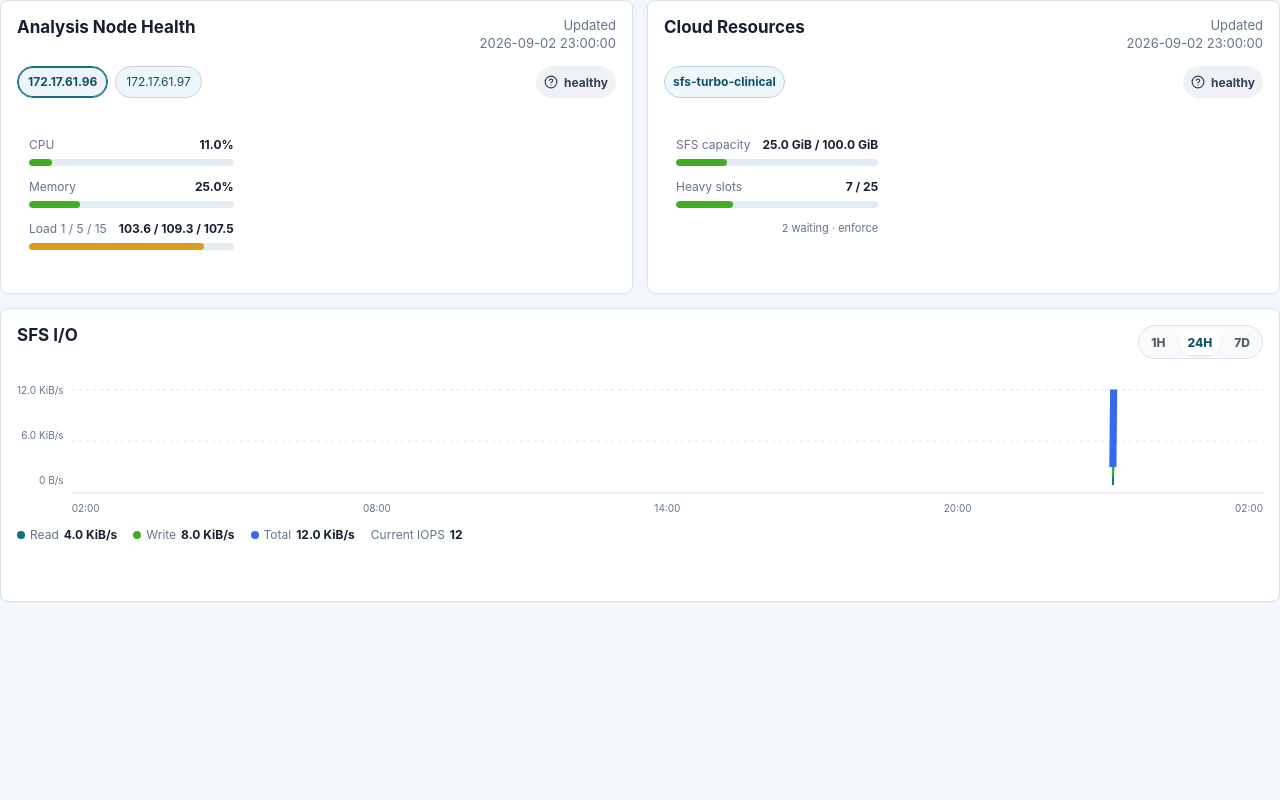
Test: replaces workflow activity with the SFS read and write history
Expected: the heading "SFS I/O" is shown, [17,325,78,345]
Expected: the text "12.0 KiB/s" next to "Total" is shown, [296,527,355,542]
Click the tab "1H".
click(1158, 342)  # box [1142,329,1175,355]
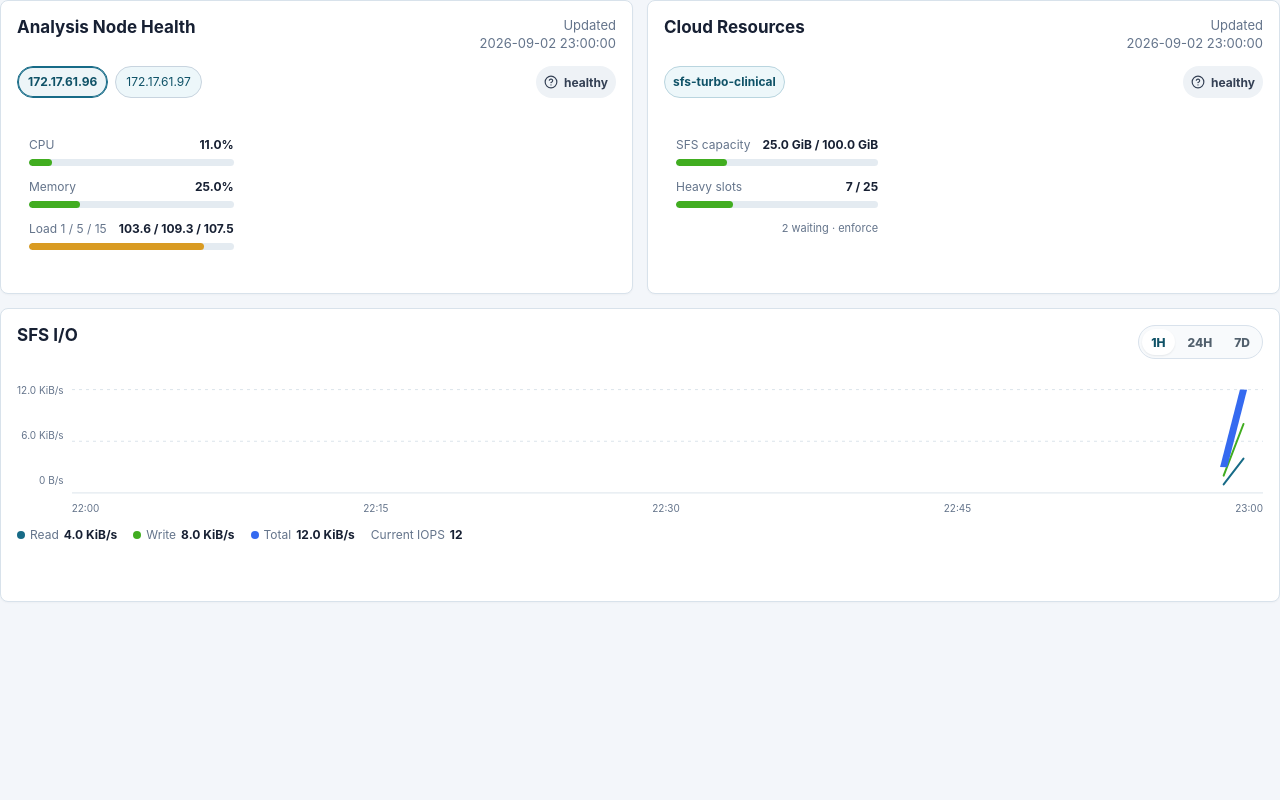
Expected: the text "22:00" is shown 5 times, [72,503,99,519]; [363,503,388,519]; [652,503,680,519]; [944,503,971,519]; [1235,503,1263,519]
Click the tab "7D".
click(1242, 342)  # box [1225,329,1259,355]
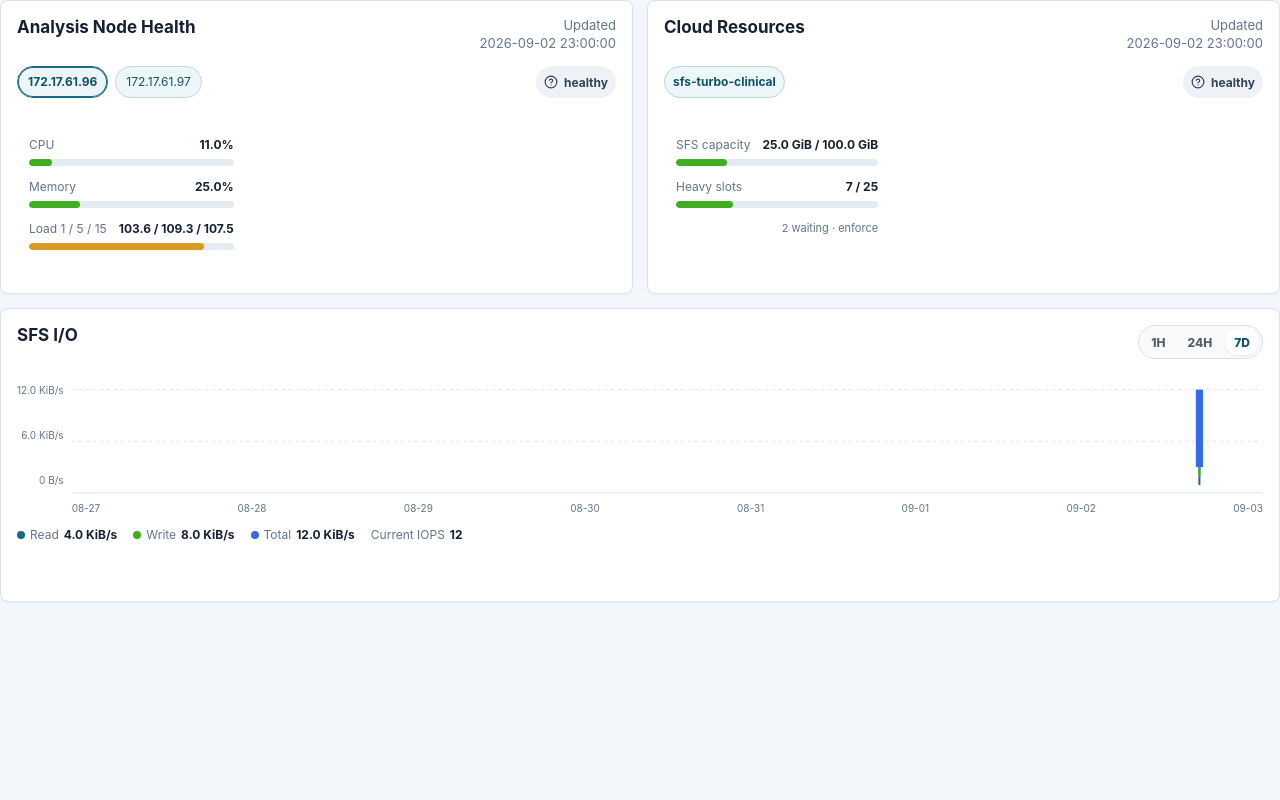
Now the text "08-27" is shown 8 times
